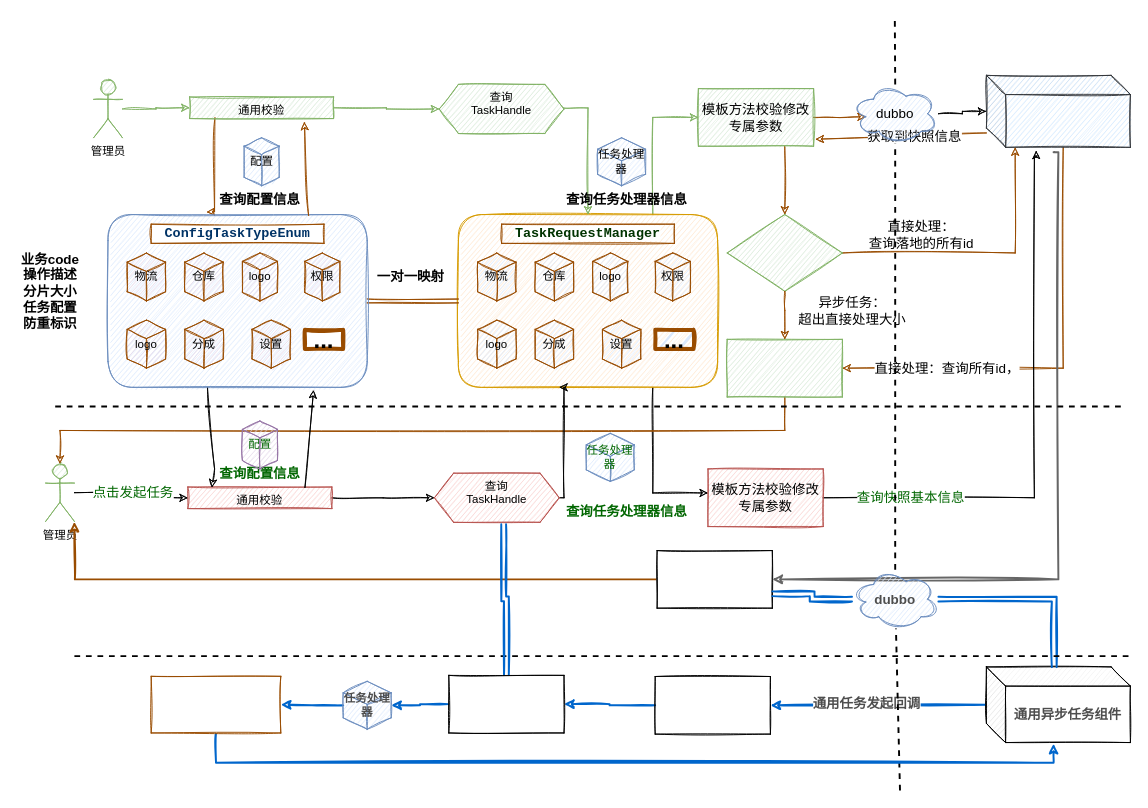
Some shapes in this 1148 by 808 pixel diagram are drawn without their labels. The shapes that lost their labels are listed below. From the top down, each one's box as (x1, y1, x2, y2) in pixels, then its label:
(985, 74, 1130, 147): 门店id全选组件
(726, 214, 842, 291): 判定处理模式
(726, 338, 842, 397): 包装处理结果
(656, 550, 772, 608): 封装任务发数据
(150, 675, 281, 733): 模板防范流程执行
(448, 674, 564, 733): 分发处理器
(654, 676, 770, 734): 校验回调数据
